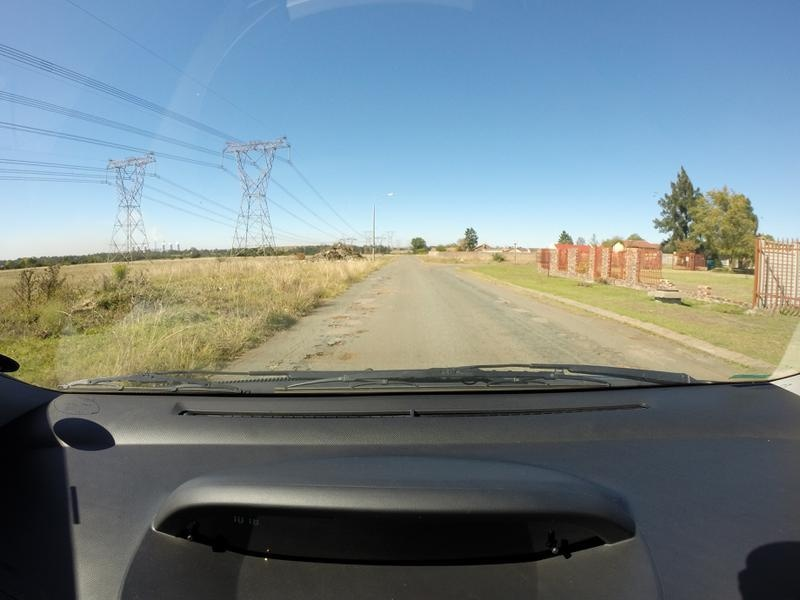pothole: (305, 351, 330, 363), (346, 328, 371, 335), (361, 304, 375, 311), (332, 315, 353, 319), (343, 350, 351, 360), (274, 357, 282, 366), (328, 342, 346, 346), (314, 341, 327, 345)
